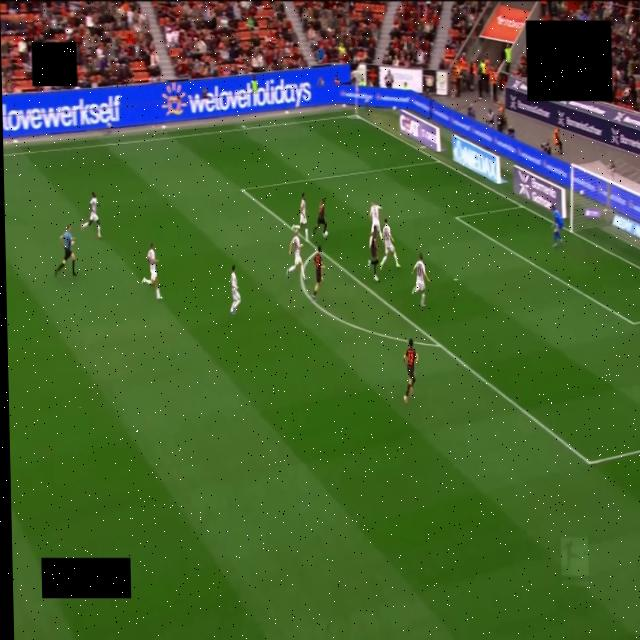ball: (324, 232, 328, 237)
player: (142, 243, 162, 300), (286, 230, 306, 280), (380, 218, 399, 269), (81, 192, 101, 239), (412, 253, 429, 306), (404, 339, 417, 403), (312, 199, 327, 237), (313, 246, 323, 301), (230, 265, 241, 314), (297, 192, 308, 240), (368, 229, 378, 281), (370, 201, 382, 240), (552, 206, 563, 247)
referee: (55, 225, 76, 276)
